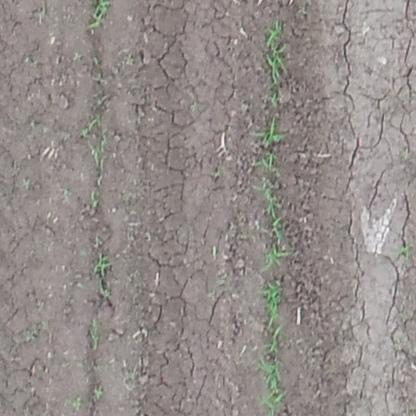corn: (258, 338, 290, 410), (257, 277, 286, 331), (265, 23, 290, 80), (256, 115, 286, 146), (261, 240, 289, 272), (87, 1, 111, 29), (91, 249, 114, 278)
